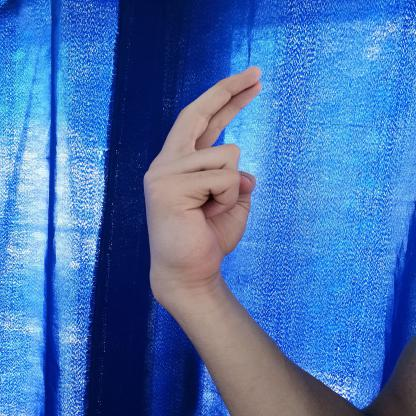ZAY: (134, 57, 276, 302)
